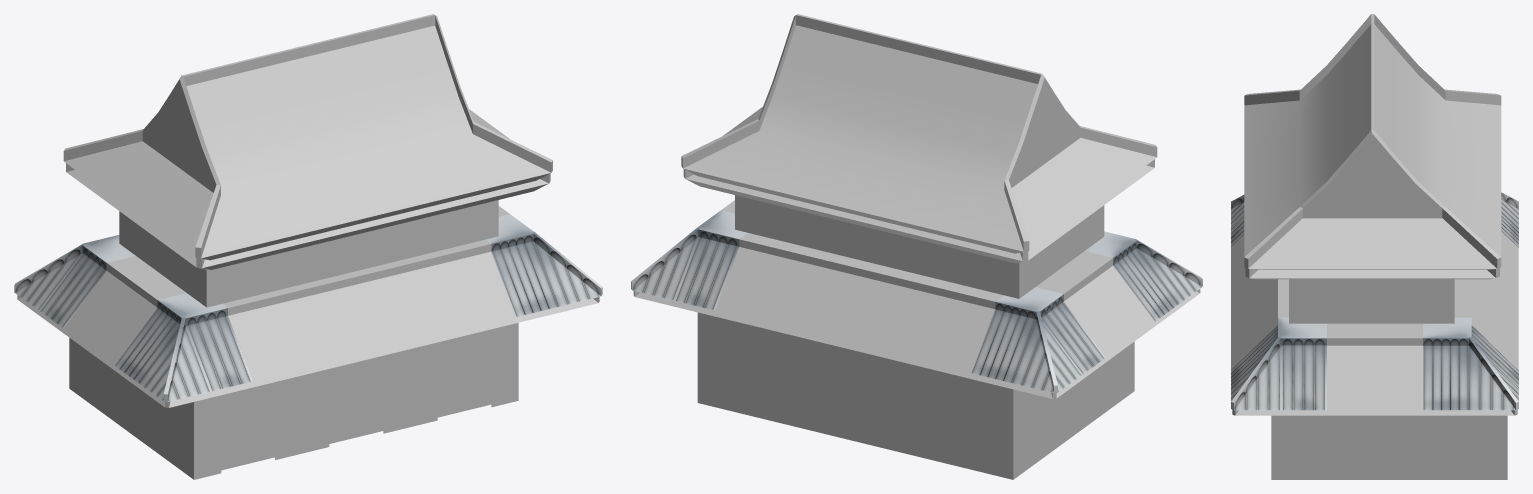
The model's file is building 1 (dark).fbx.
The picture shows the model from 3 angles, left to right: view 1: azimuth 30°, elevation 25°; view 2: azimuth 150°, elevation 25°; view 3: azimuth 270°, elevation 25°; orthographic projection. The views are drawn at different scales.
Visible parts, largest first — view 1: Plane034, Low poly roof 008, low poly roof 021, Low poly roof 007, low poly roof 015, low poly roof 014, low poly roof 013, low poly roof 020, low poly roof 016, low poly roof 012, low poly roof 008, Low poly roof 018 (+3 smaller); view 2: Plane034, Low poly roof 008, low poly roof 021, Low poly roof 007, low poly roof 008, low poly roof 006, low poly roof 007, low poly roof 019, low poly roof 009, low poly roof 016, low poly roof 015, Low poly roof 018 (+3 smaller); view 3: Low poly roof 007, Plane034, low poly roof 021, Low poly roof 008, low poly roof 011, low poly roof 009, low poly roof 012, Low poly roof 017, low poly roof 007, low poly roof 013, low poly roof 006, low poly roof 014 (+7 smaller).
Boxes of the visible parts, left/top/right/bottom form: Plane034: left=69, top=200, right=518, bottom=479; Low poly roof 008: left=63, top=59, right=316, bottom=260; low poly roof 021: left=248, top=30, right=435, bottom=234; Low poly roof 007: left=367, top=14, right=552, bottom=205; low poly roof 015: left=114, top=293, right=252, bottom=402; low poly roof 014: left=310, top=261, right=428, bottom=359; low poly roof 013: left=398, top=239, right=515, bottom=338; low poly roof 020: left=222, top=282, right=340, bottom=381; low poly roof 016: left=64, top=256, right=186, bottom=365; low poly roof 012: left=486, top=214, right=602, bottom=317; low poly roof 008: left=14, top=235, right=135, bottom=328; Low poly roof 018: left=66, top=163, right=316, bottom=269; Plane034: left=697, top=195, right=1134, bottom=479; Low poly roof 008: left=911, top=58, right=1157, bottom=253; low poly roof 021: left=795, top=29, right=977, bottom=228; Low poly roof 007: left=681, top=14, right=861, bottom=200; low poly roof 008: left=971, top=287, right=1105, bottom=393; low poly roof 006: left=800, top=253, right=918, bottom=352; low poly roof 007: left=715, top=233, right=832, bottom=331; low poly roof 019: left=886, top=274, right=1003, bottom=372; low poly roof 009: left=631, top=210, right=747, bottom=310; low poly roof 016: left=1036, top=251, right=1154, bottom=357; low poly roof 015: left=1085, top=231, right=1202, bottom=321; Low poly roof 018: left=911, top=159, right=1154, bottom=262; Low poly roof 007: left=1244, top=99, right=1501, bottom=269; Plane034: left=1271, top=279, right=1507, bottom=479; low poly roof 021: left=1244, top=44, right=1501, bottom=213; Low poly roof 008: left=1244, top=14, right=1501, bottom=158; low poly roof 011: left=1327, top=323, right=1422, bottom=410; low poly roof 009: left=1423, top=317, right=1518, bottom=410; low poly roof 012: left=1231, top=317, right=1326, bottom=410; Low poly roof 017: left=1245, top=268, right=1499, bottom=279; low poly roof 007: left=1454, top=279, right=1518, bottom=368; low poly roof 013: left=1231, top=279, right=1288, bottom=369; low poly roof 006: left=1471, top=271, right=1518, bottom=328; low poly roof 014: left=1231, top=275, right=1277, bottom=328.
Bounding box in the file's own units: 116 × 89.61 × 69.67.
